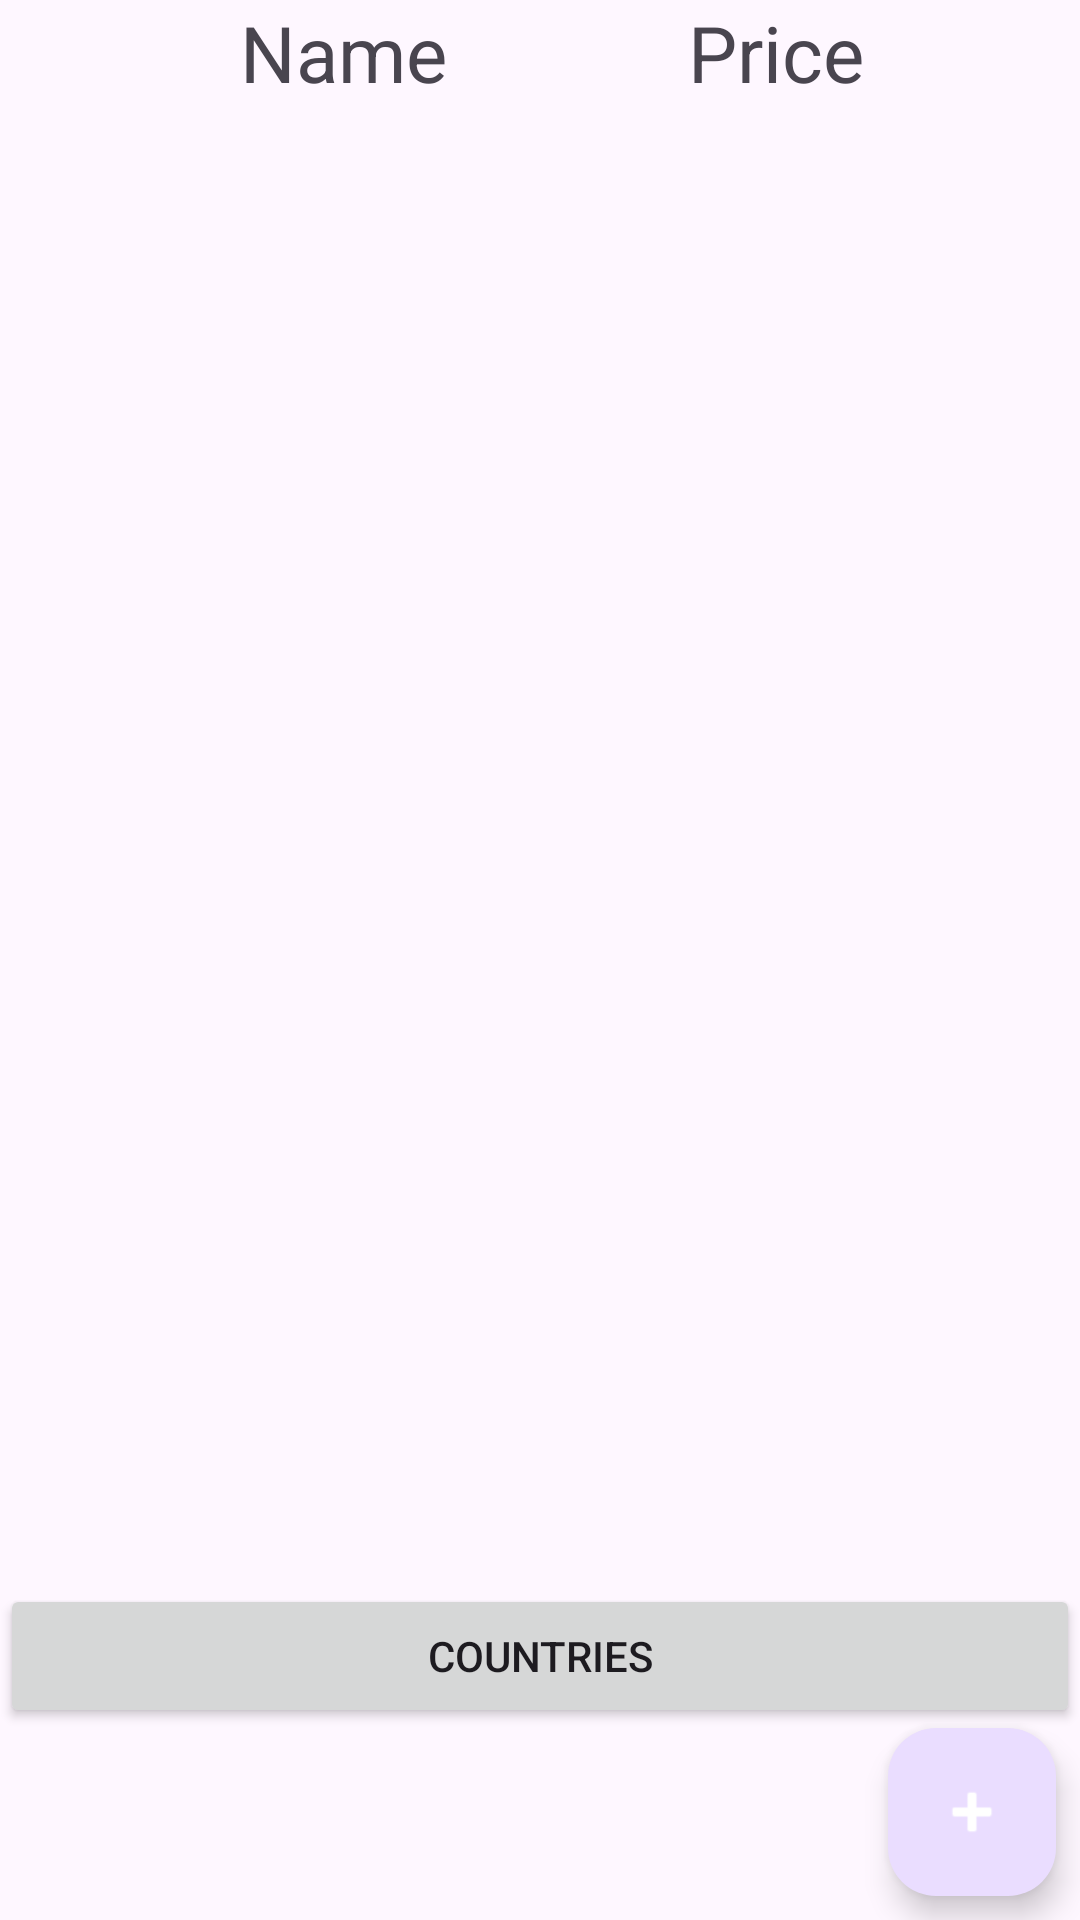

Icon click points for this 1080w x 1920h phone screenshot, format (x,y):
Add new product: (972,1812)
